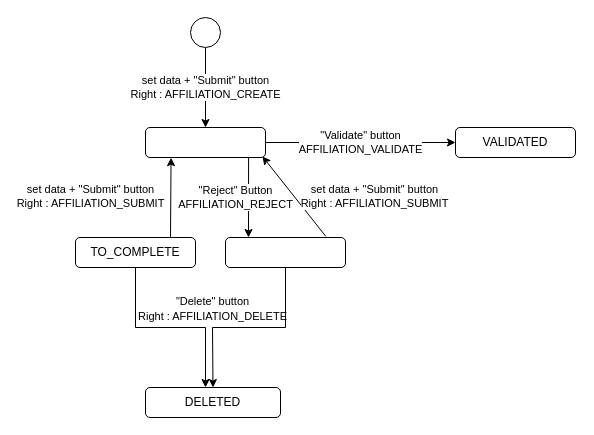
This 594x435 diagram has some shape labels left out. The shapes that lost their labels are listed below. From the top down, each one's box as (x1, y1, x2, y2) in pixels, then its label:
(144, 126, 266, 158): SUBMITTED
(224, 236, 346, 268): REJECTED
